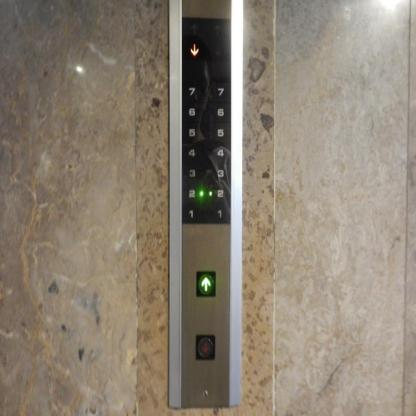down: (194, 332, 217, 362)
led: (180, 13, 232, 226)
up: (194, 268, 218, 300)
